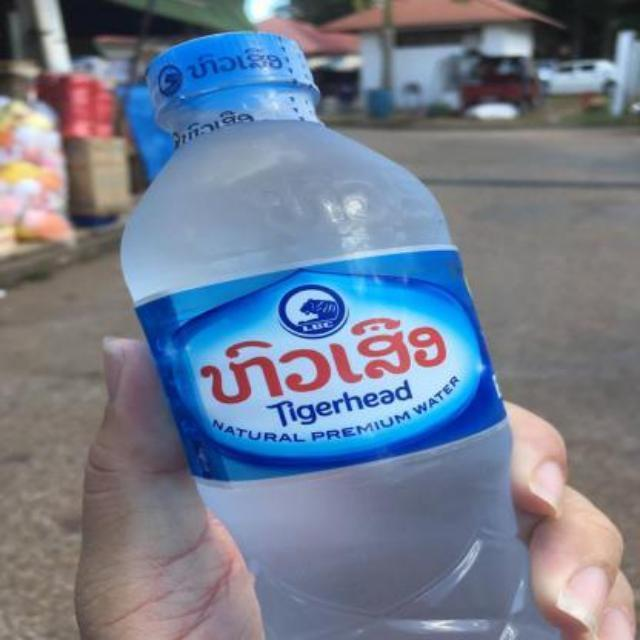bottle: (120, 26, 544, 633)
